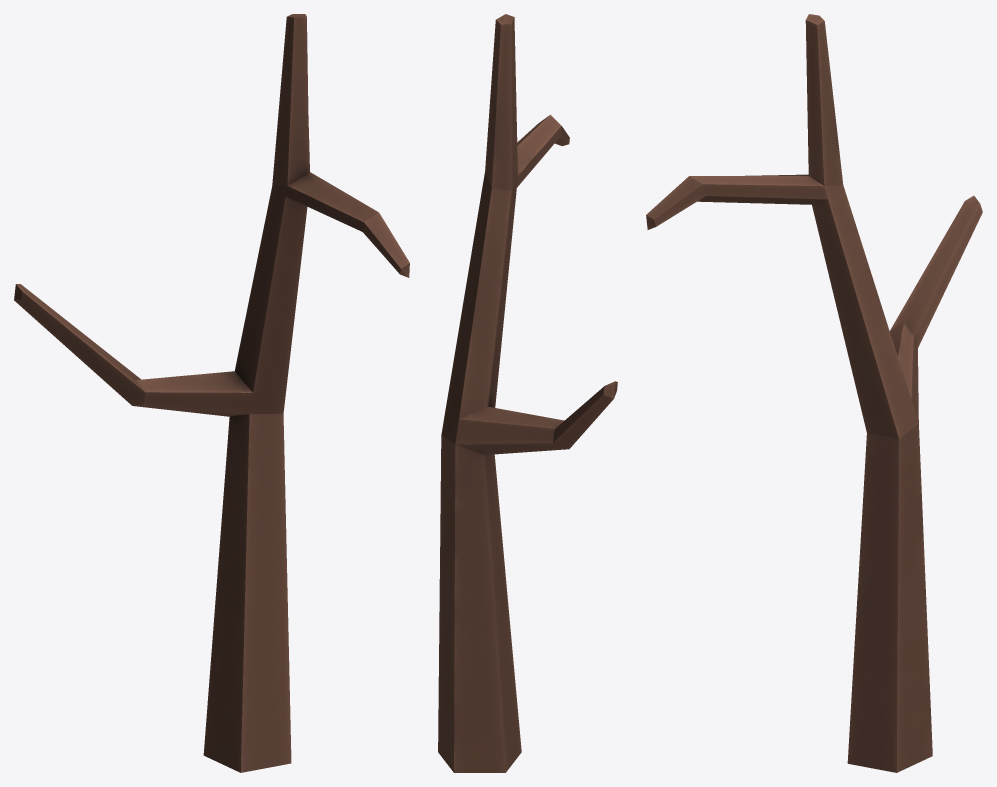
File: Tree_5.fbx
The picture shows the model from 3 angles, left to right: view 1: azimuth 30°, elevation 25°; view 2: azimuth 150°, elevation 25°; view 3: azimuth 270°, elevation 25°; orthographic projection. The views are drawn at different scales.
Parts seen in each view (by area): view 1: Tree_5; view 2: Tree_5; view 3: Tree_5.
Part boxes in pixels (<box>): Tree_5: <box>14,14,409,772</box>; Tree_5: <box>438,14,617,772</box>; Tree_5: <box>646,14,982,772</box>.
Size of the model in its own units: 31.07 by 98.61 by 40.6.
